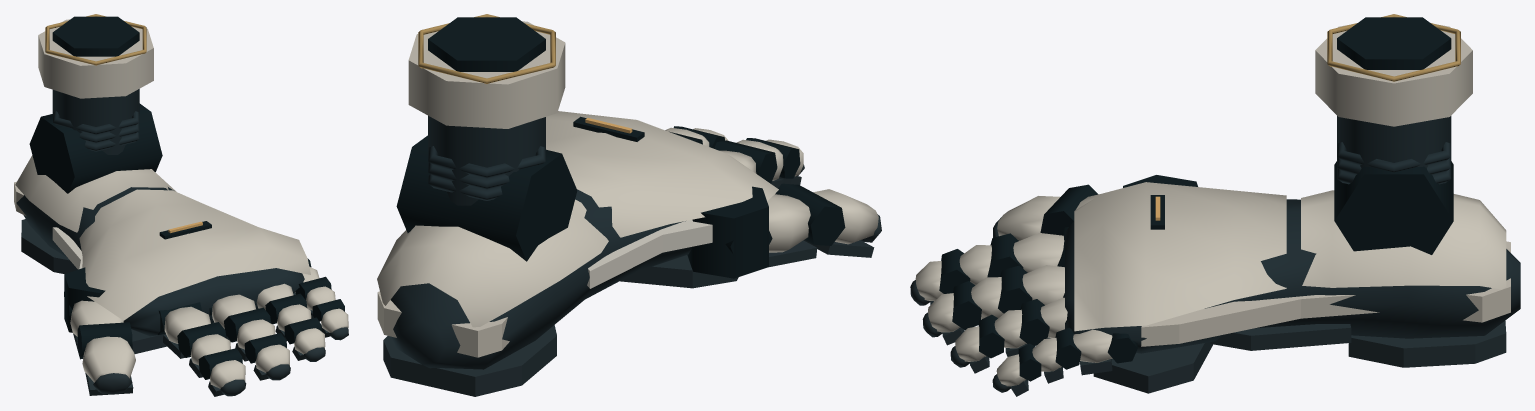
The model's file is nisoku02foot_biped_d0_lod2.meshopt.glb.
The picture shows the model from 3 angles, left to right: view 1: azimuth 30°, elevation 25°; view 2: azimuth 150°, elevation 25°; view 3: azimuth 270°, elevation 25°; orthographic projection. The views are drawn at different scales.
Visible parts, largest first — view 1: NISOKU_DISTANCE_GEOMETRY; view 2: NISOKU_DISTANCE_GEOMETRY; view 3: NISOKU_DISTANCE_GEOMETRY.
Part boxes in pixels (box(x1,y1,x2,y2)): NISOKU_DISTANCE_GEOMETRY: box(14, 14, 348, 396); NISOKU_DISTANCE_GEOMETRY: box(377, 14, 881, 396); NISOKU_DISTANCE_GEOMETRY: box(910, 14, 1520, 396).
Size of the model in its own units: 0.1627 by 0.1383 by 0.2557.
